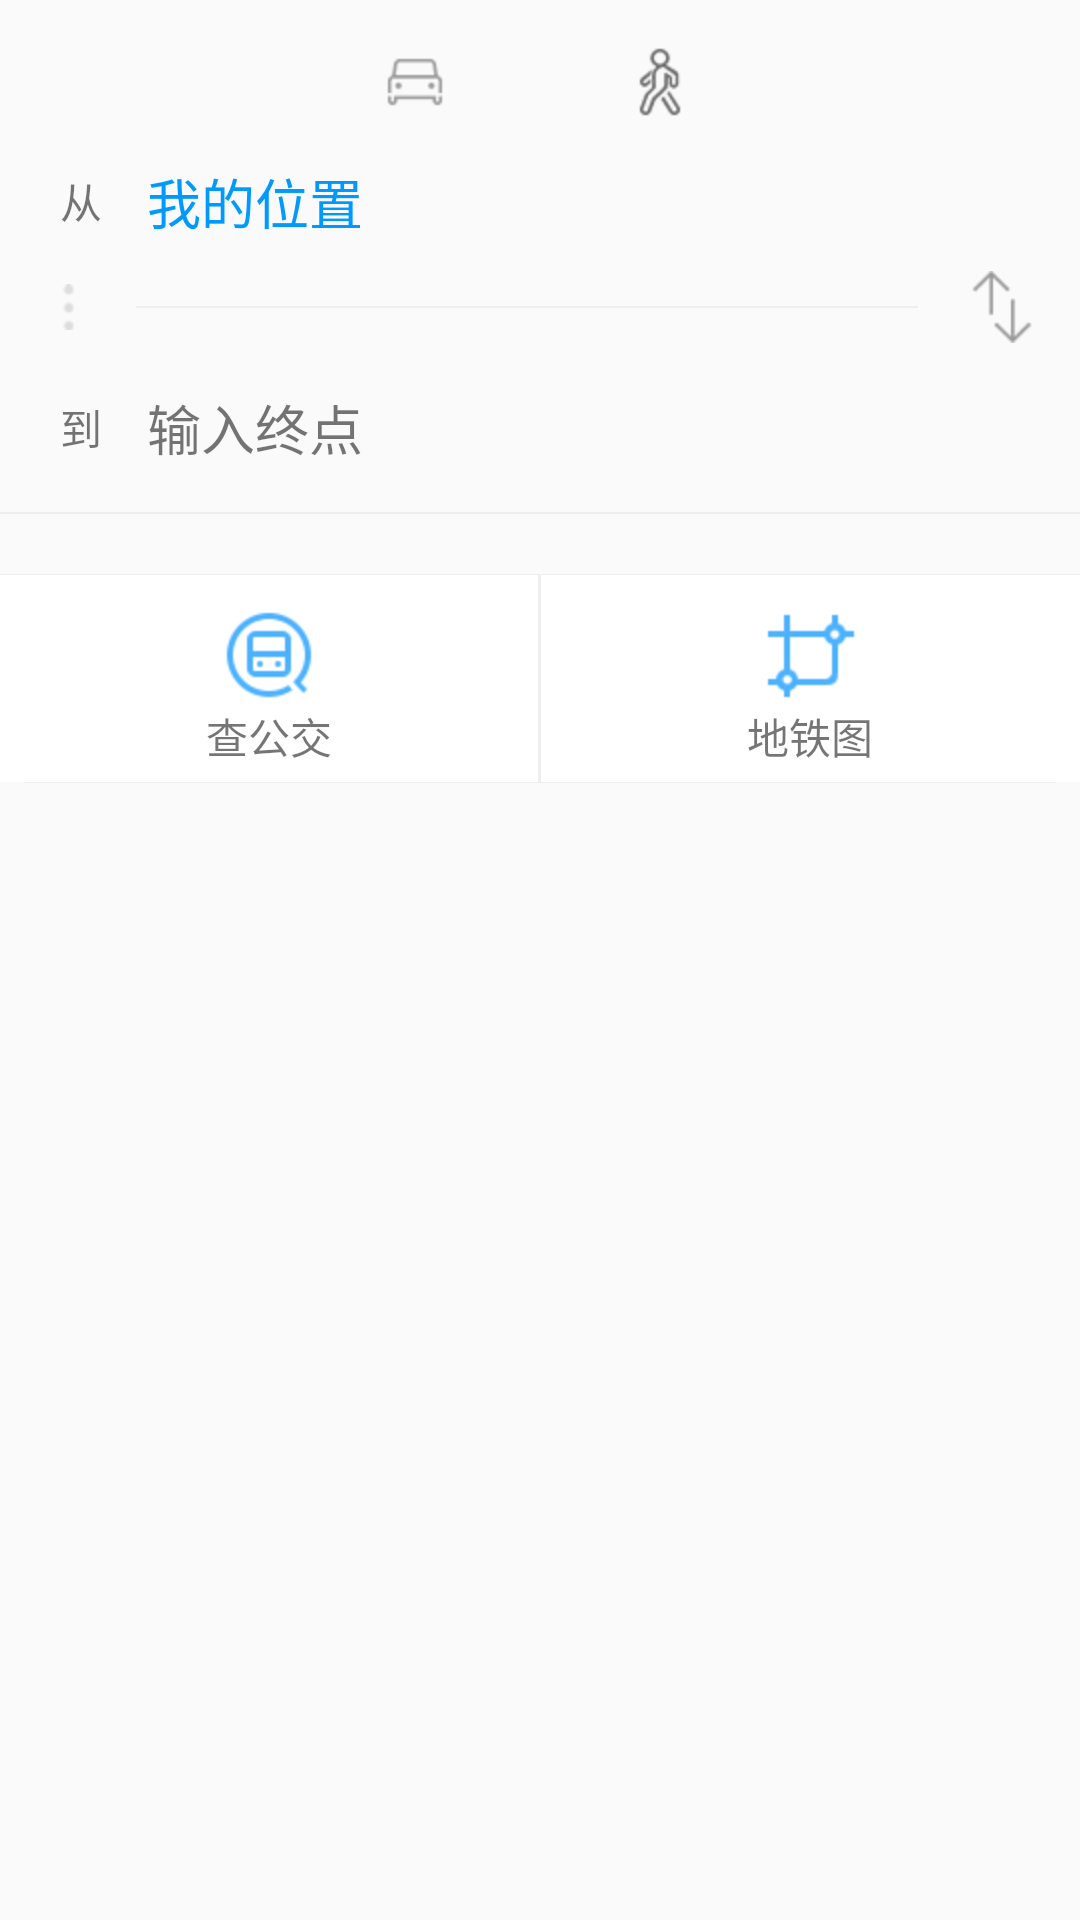

Point at icon controls on the screen. Image size 1080px x 1920px, points as (x,y).
route exchange: (1002,307)
route onfoot: (660,82)
